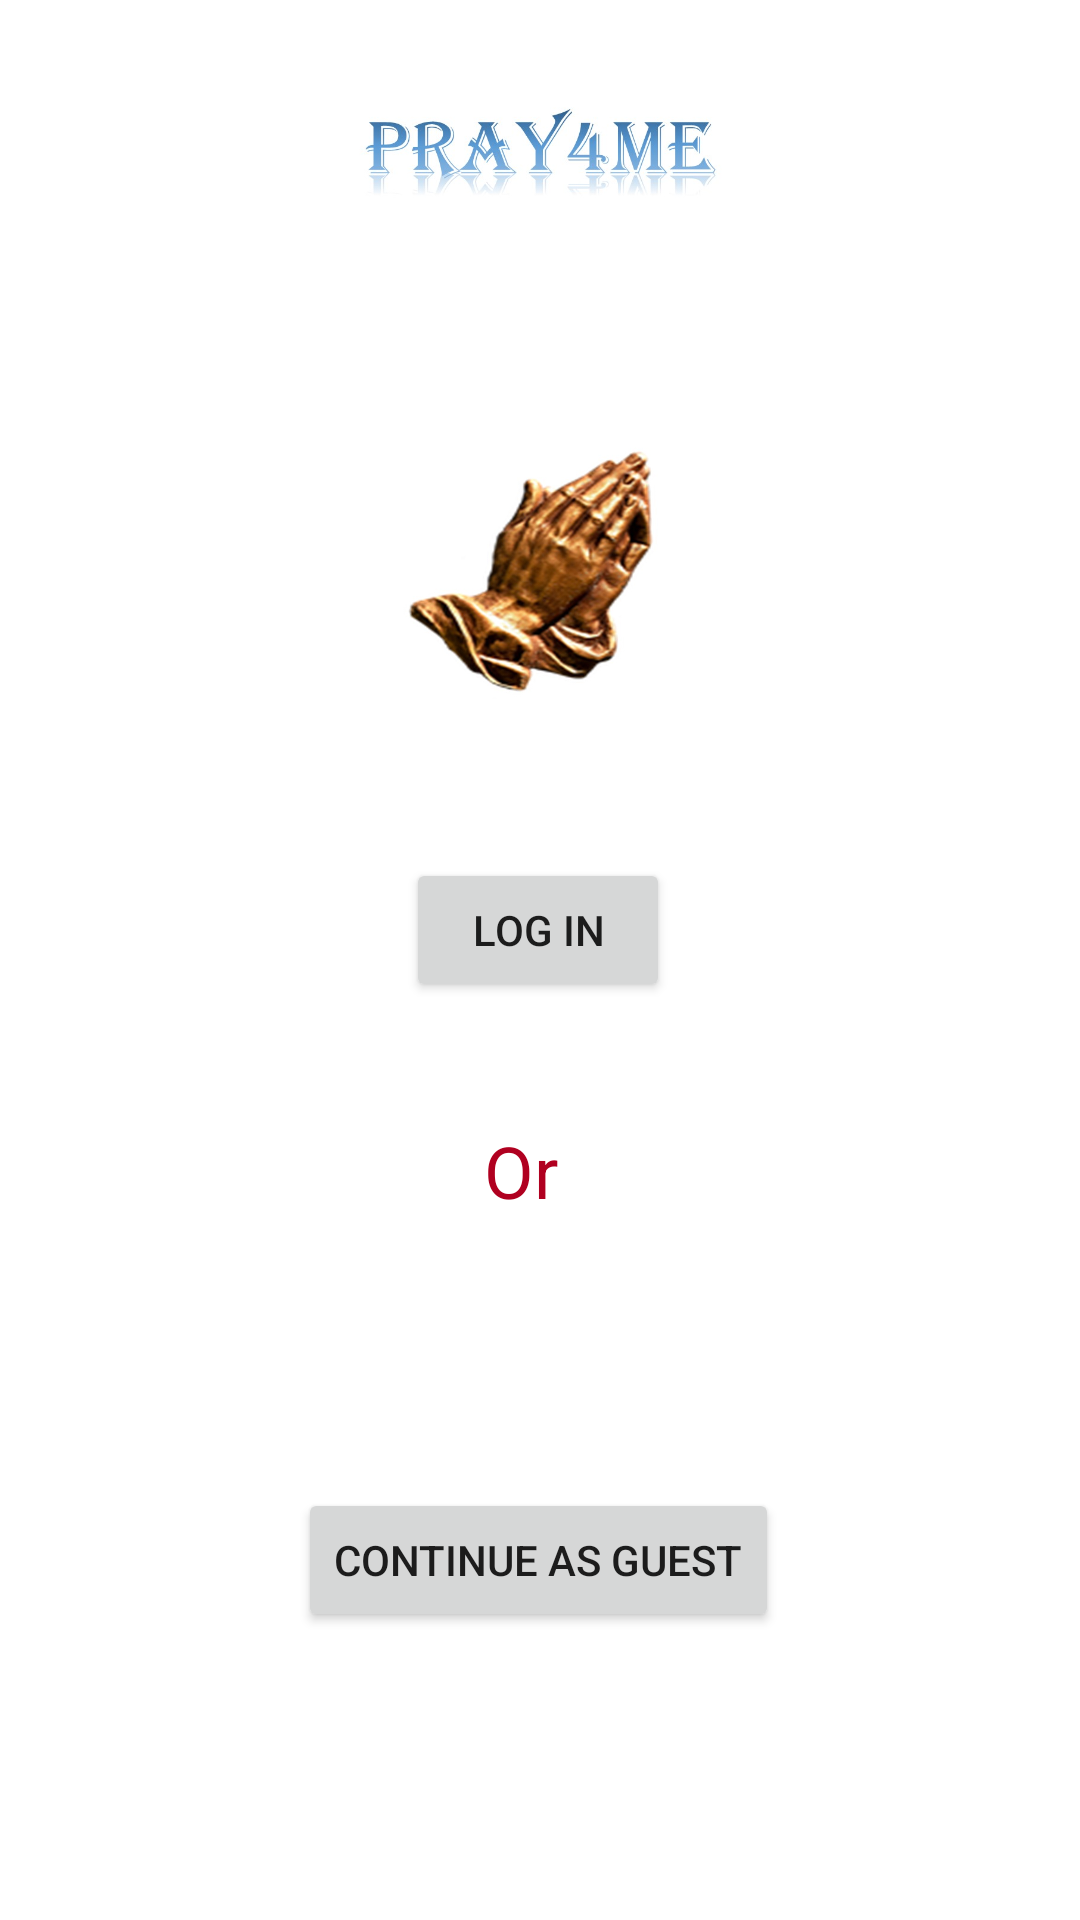

Screen size 1080px×1920px. Icon name, then its center in pixels as point (x, y):
prayinghands: point (531, 571)
